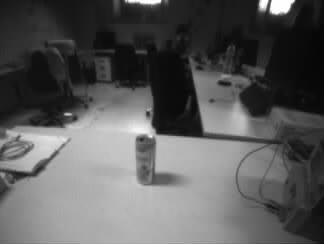Tin can: (135, 133, 155, 186)
